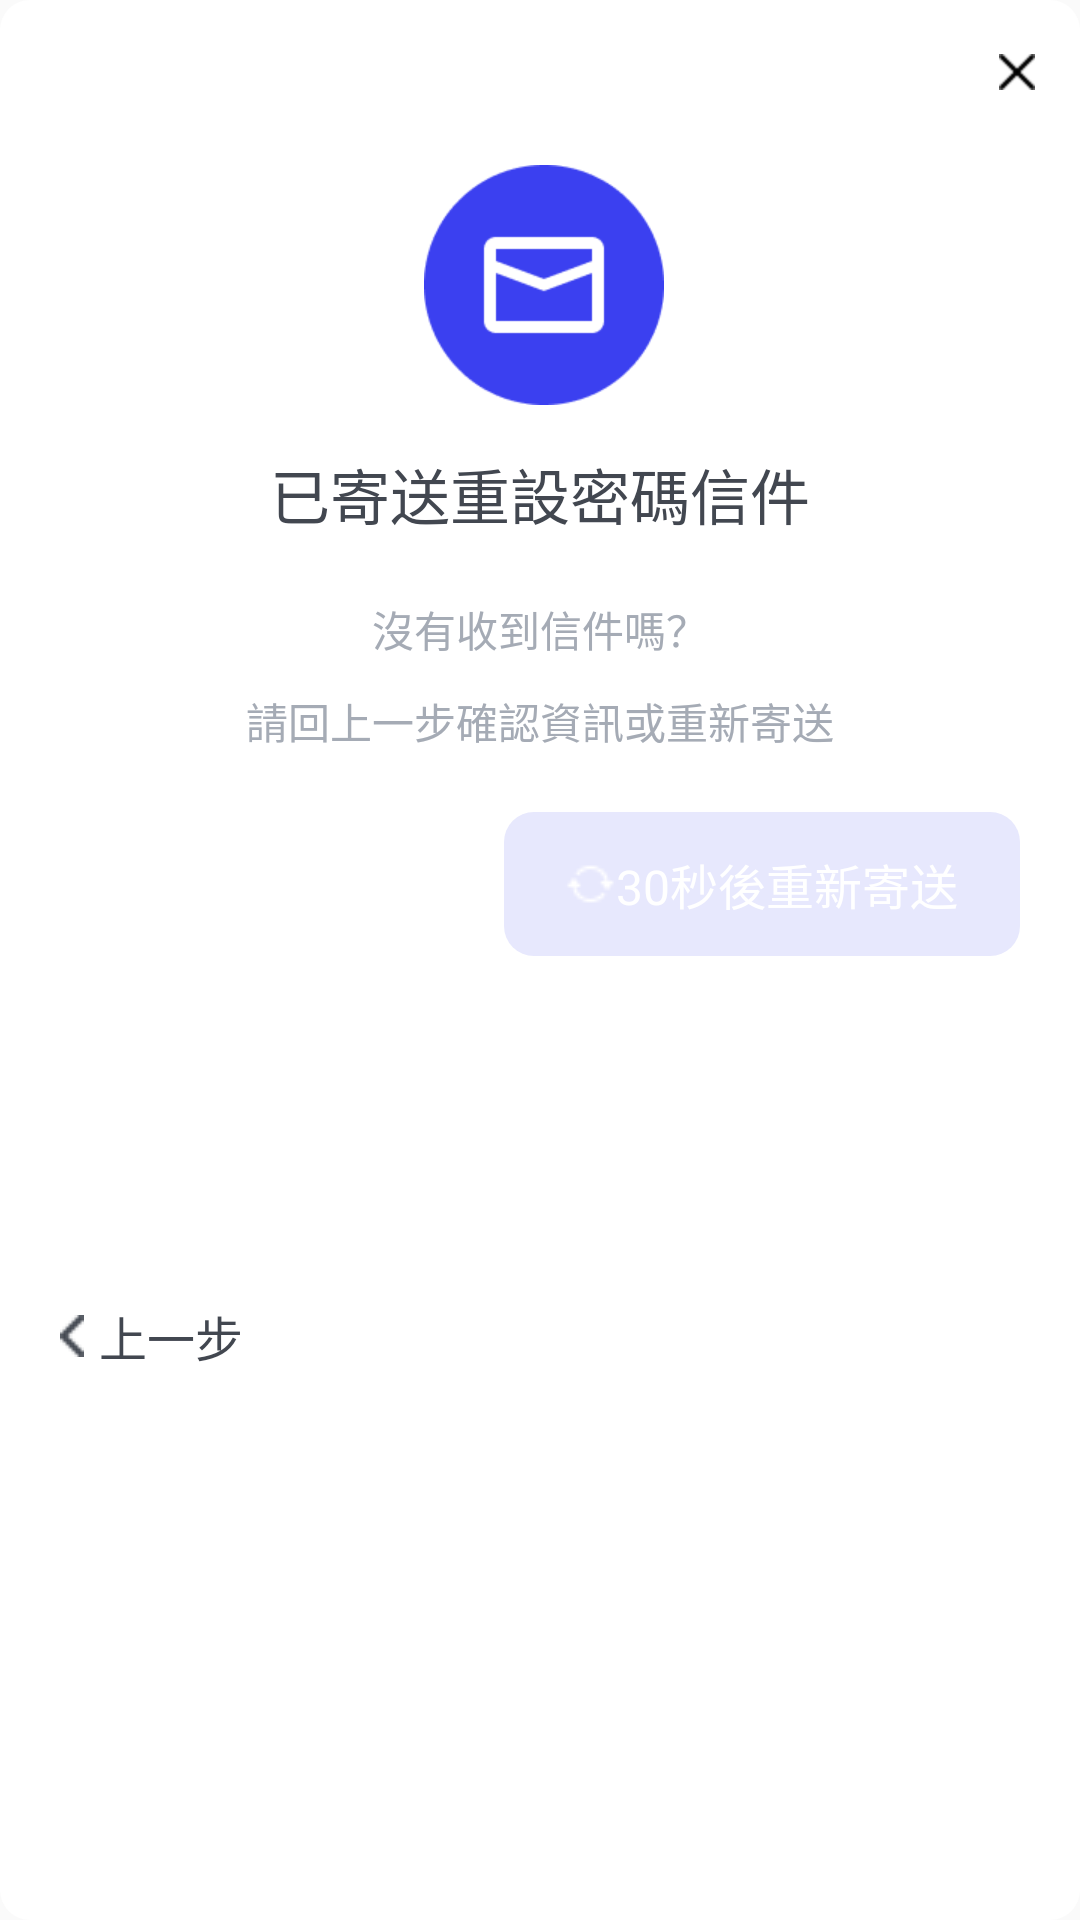

Screen size 1080x1920. Icon name, then its box in pixels as (x1, y1, x2, y2):
back: (60, 1315, 84, 1357)
del: (999, 54, 1035, 90)
emailed: (424, 165, 664, 405)
